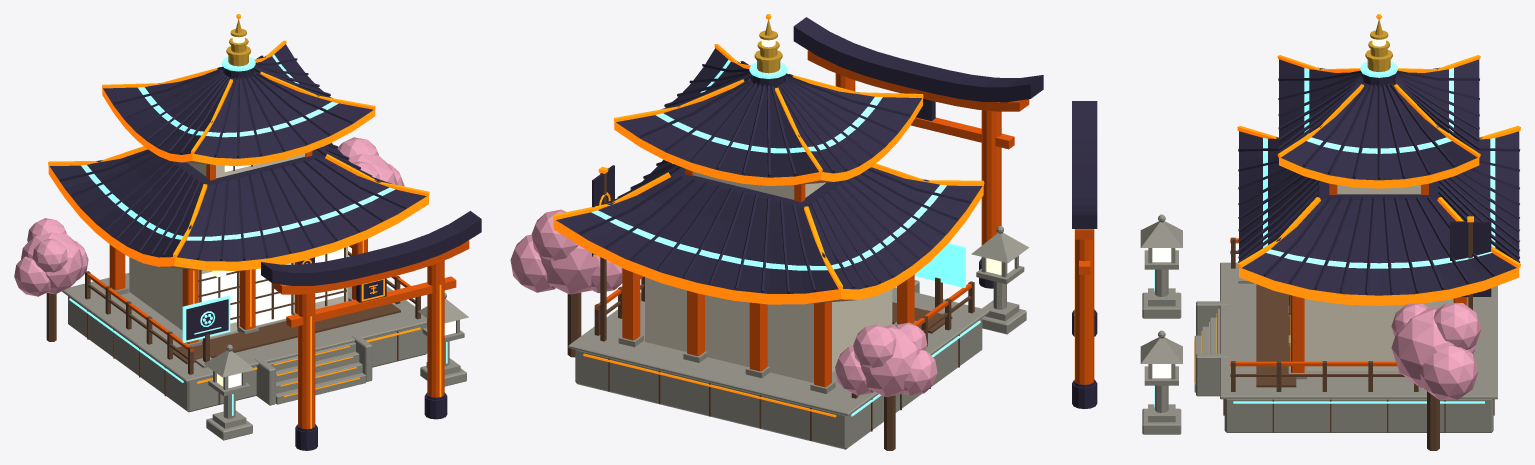
The model's file is templo.glb.
The picture shows the model from 3 angles, left to right: view 1: azimuth 30°, elevation 25°; view 2: azimuth 150°, elevation 25°; view 3: azimuth 270°, elevation 25°; orthographic projection. The views are drawn at different scales.
Visible parts, largest first — view 1: templo; view 2: templo; view 3: templo.
Boxes of the visible parts, x1=… form: templo: x1=14, y1=14, x2=481, y2=450; templo: x1=510, y1=14, x2=1043, y2=450; templo: x1=1072, y1=14, x2=1520, y2=450.
Size of the model in its own units: 8.44 by 6.84 by 7.85.
